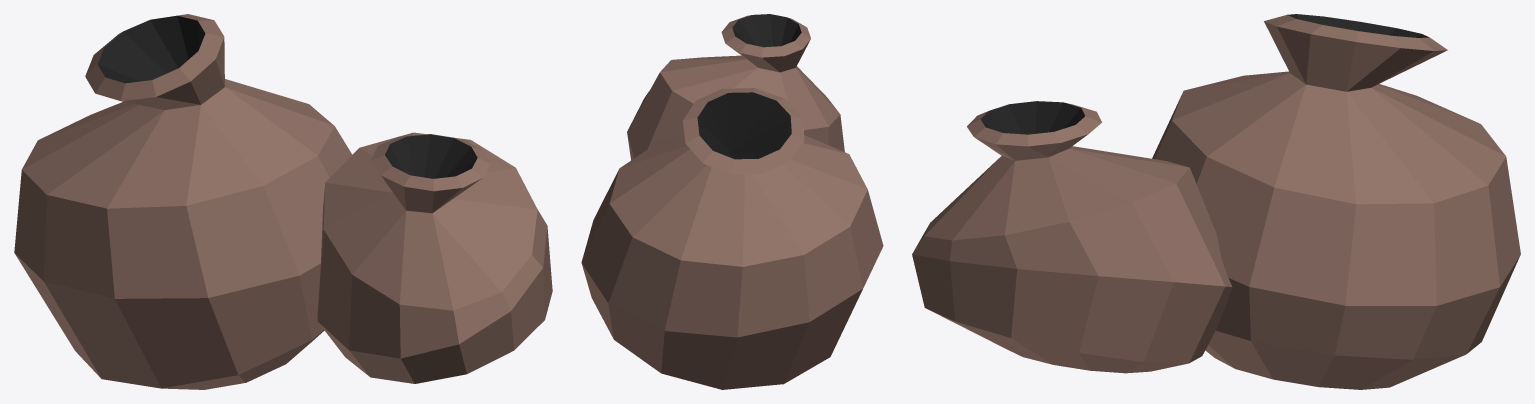
The model's file is prop_005.fbx.
3 views of the same model, side by side, from view 1: azimuth 30°, elevation 25°; view 2: azimuth 150°, elevation 25°; view 3: azimuth 270°, elevation 25° (orthographic). The views are drawn at different scales.
Parts seen in each view (by area): view 1: prop.005; view 2: prop.005; view 3: prop.005.
Boxes of the visible parts, x1=… form: prop.005: x1=14, y1=14, x2=552, y2=389; prop.005: x1=581, y1=14, x2=883, y2=389; prop.005: x1=912, y1=14, x2=1520, y2=389.
Size of the model in its own units: 132 by 112 by 174.
Materials: 1 (1 with a texture image).
